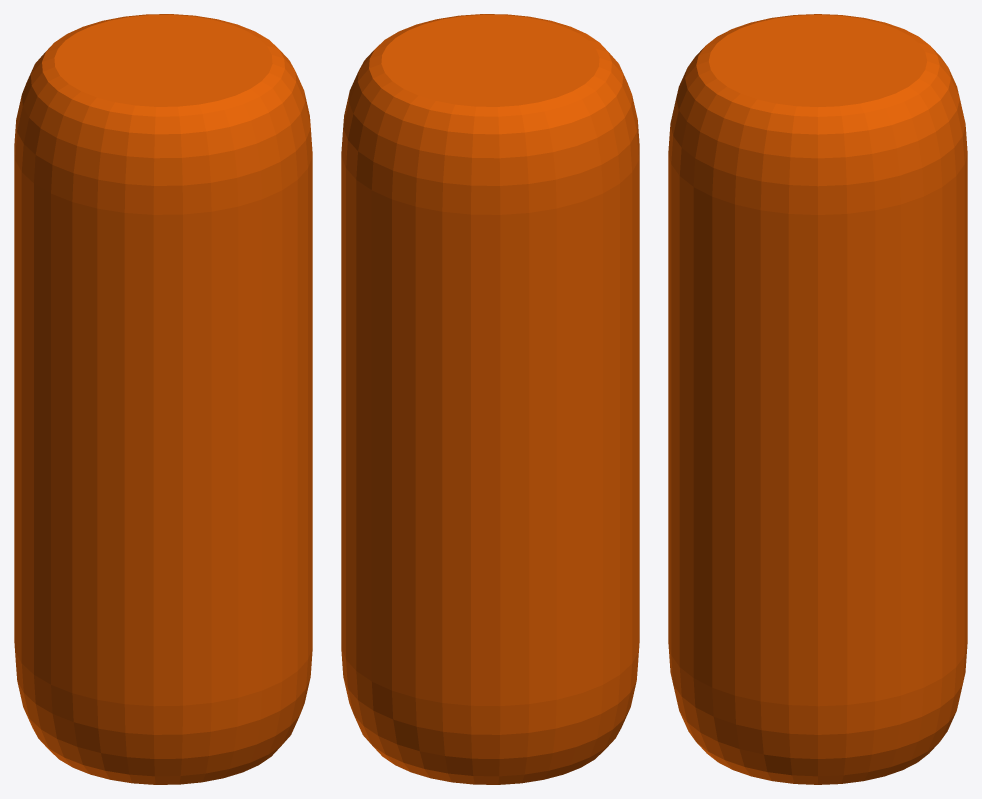
The model's file is carrot.dae.
3 renders of one model, left to right at view 1: azimuth 30°, elevation 25°; view 2: azimuth 150°, elevation 25°; view 3: azimuth 270°, elevation 25°, orthographic.
Visible parts, largest first — view 1: Cylinder; view 2: Cylinder; view 3: Cylinder.
Boxes of the visible parts, left/top/right/bottom form: Cylinder: left=14, top=14, right=312, bottom=784; Cylinder: left=341, top=14, right=639, bottom=784; Cylinder: left=668, top=14, right=967, bottom=784.
Bounding box in the file's own units: 0.8 × 0.8 × 2.
